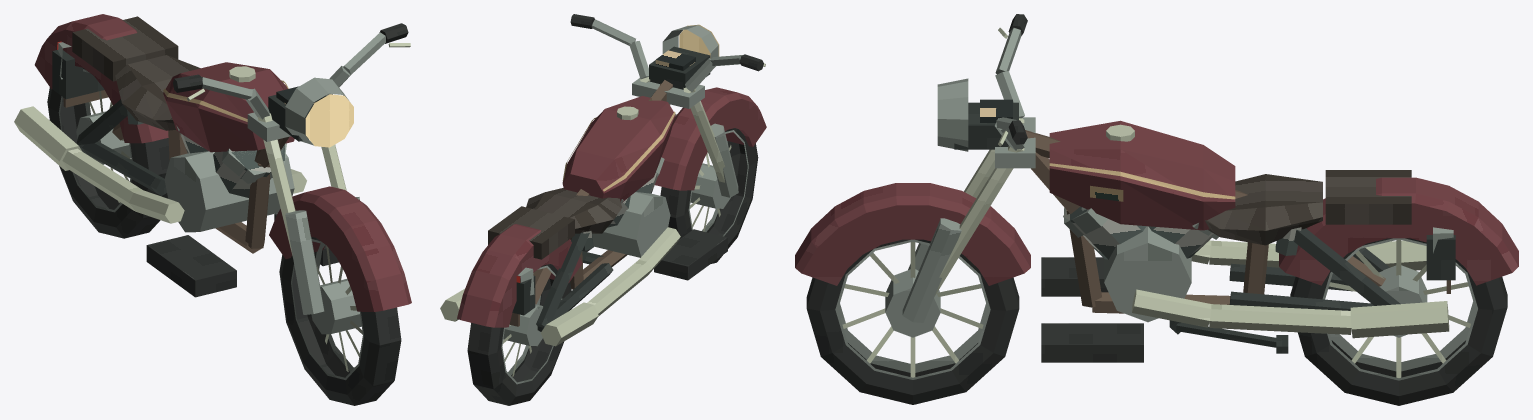
The model's file is brackenton-1947.glb.
The picture shows the model from 3 angles, left to right: view 1: azimuth 30°, elevation 25°; view 2: azimuth 150°, elevation 25°; view 3: azimuth 270°, elevation 25°; orthographic projection. The views are drawn at different scales.
Visible parts, largest first — view 1: body, Front valanced or bobbed mudguard, Tread, tyre shoulders and inner lips, Tread, tyre shoulders and inner lips.001, Fork lower slider, Lamp lens, Brake drum or axle hub, Stove enamel lamp bucket, Fork leg, Brake drum or axle hub.001, Fork crown, Fork leg.001 (+7 smaller); view 2: body, Front valanced or bobbed mudguard, Tread, tyre shoulders and inner lips.001, Tread, tyre shoulders and inner lips, Lamp mounting yoke, Brake drum or axle hub, Fork crown, Fork leg, Brake drum or axle hub.001, Fork lower slider, Stove enamel lamp bucket, Lamp lens (+4 smaller); view 3: body, Front valanced or bobbed mudguard, Tread, tyre shoulders and inner lips, Tread, tyre shoulders and inner lips.001, Fork lower slider.001, Stove enamel lamp bucket, Brake drum or axle hub, Fork leg.001, Rim lip, Rim lip.002, Brake drum or axle hub.001, Lamp mounting yoke (+6 smaller).
Boxes of the visible parts, x1=… form: body: x1=14, y1=14, x2=338, y2=297; Front valanced or bobbed mudguard: x1=269, y1=186, x2=411, y2=311; Tread, tyre shoulders and inner lips: x1=279, y1=237, x2=401, y2=405; Tread, tyre shoulders and inner lips.001: x1=47, y1=68, x2=169, y2=238; Fork lower slider: x1=285, y1=210, x2=324, y2=314; Lamp lens: x1=305, y1=94, x2=353, y2=147; Brake drum or axle hub: x1=311, y1=279, x2=361, y2=334; Stove enamel lamp bucket: x1=285, y1=77, x2=348, y2=145; Fork leg: x1=257, y1=113, x2=295, y2=255; Brake drum or axle hub.001: x1=76, y1=111, x2=130, y2=164; Fork crown: x1=247, y1=112, x2=290, y2=141; Fork leg.001: x1=321, y1=144, x2=346, y2=190; body: x1=440, y1=80, x2=727, y2=346; Front valanced or bobbed mudguard: x1=655, y1=87, x2=766, y2=190; Tread, tyre shoulders and inner lips.001: x1=467, y1=264, x2=571, y2=405; Tread, tyre shoulders and inner lips: x1=660, y1=128, x2=758, y2=263; Lamp mounting yoke: x1=649, y1=46, x2=710, y2=89; Brake drum or axle hub: x1=690, y1=163, x2=730, y2=208; Fork crown: x1=632, y1=78, x2=704, y2=108; Fork leg: x1=683, y1=87, x2=724, y2=182; Brake drum or axle hub.001: x1=503, y1=304, x2=542, y2=346; Fork lower slider: x1=711, y1=123, x2=738, y2=197; Stove enamel lamp bucket: x1=662, y1=25, x2=718, y2=58; Lamp lens: x1=679, y1=24, x2=719, y2=58; body: x1=1025, y1=120, x2=1518, y2=362; Front valanced or bobbed mudguard: x1=795, y1=183, x2=1030, y2=285; Tread, tyre shoulders and inner lips: x1=806, y1=239, x2=1019, y2=404; Tread, tyre shoulders and inner lips.001: x1=1290, y1=238, x2=1507, y2=405; Fork lower slider.001: x1=902, y1=218, x2=961, y2=322; Stove enamel lamp bucket: x1=937, y1=78, x2=968, y2=151; Brake drum or axle hub: x1=885, y1=269, x2=940, y2=337; Fork leg.001: x1=934, y1=146, x2=1024, y2=296; Rim lip: x1=838, y1=303, x2=987, y2=372; Rim lip.002: x1=1330, y1=301, x2=1475, y2=371; Brake drum or axle hub.001: x1=1379, y1=265, x2=1427, y2=337; Lamp mounting yoke: x1=954, y1=102, x2=1018, y2=149.
Bounding box in the file's own units: 0.9131 × 1.17 × 2.35.
Materials: 5 (5 with a texture image).
